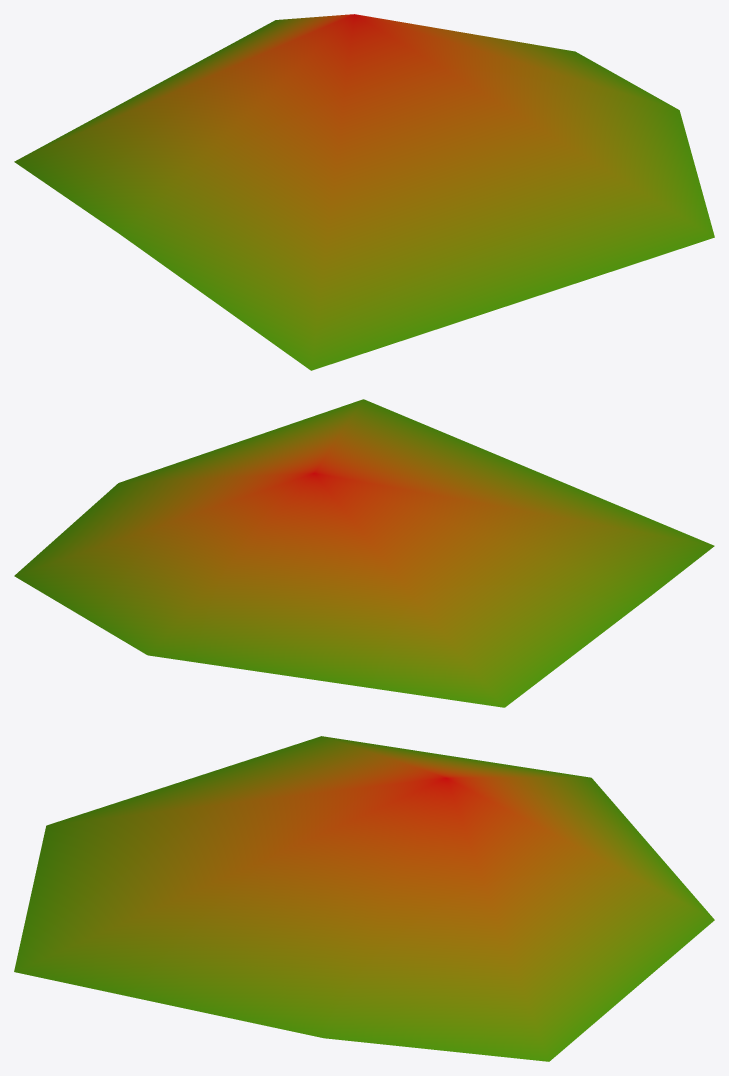
File: Var8_LOD3.fbx
The picture shows the model from 3 angles, top to bottom: view 1: azimuth 30°, elevation 25°; view 2: azimuth 150°, elevation 25°; view 3: azimuth 270°, elevation 25°; orthographic projection. The views are drawn at different scales.
Visible parts, largest first — view 1: _9cd2_Var8_LOD3; view 2: _9cd2_Var8_LOD3; view 3: _9cd2_Var8_LOD3.
Boxes of the visible parts, box(x1,y1,x2,y2) form: _9cd2_Var8_LOD3: box(14, 14, 714, 370); _9cd2_Var8_LOD3: box(14, 399, 714, 707); _9cd2_Var8_LOD3: box(14, 736, 714, 1061).
Bounding box in the file's own units: 45.9 × 12.4 × 47.06.
